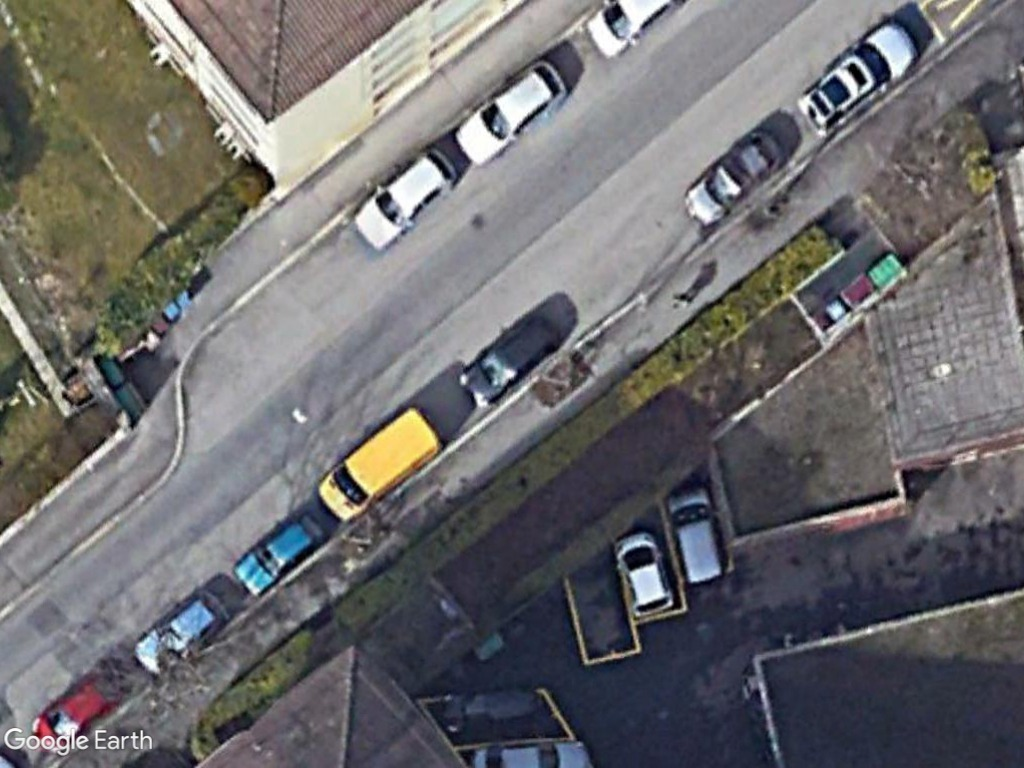car: (795, 23, 920, 137), (455, 53, 568, 166), (349, 147, 455, 254), (684, 125, 783, 227), (456, 313, 558, 409), (232, 517, 317, 597), (613, 529, 673, 618)
van: (315, 404, 441, 525), (664, 486, 726, 587)
